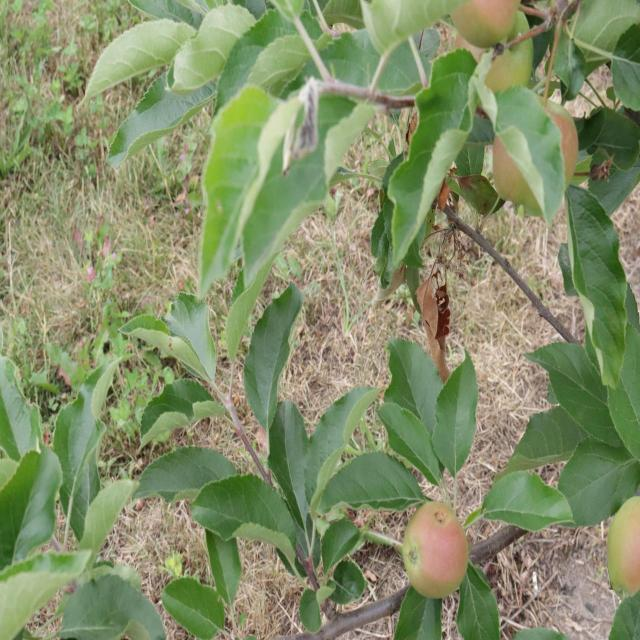-FireBlight-: (411, 279, 457, 379)
